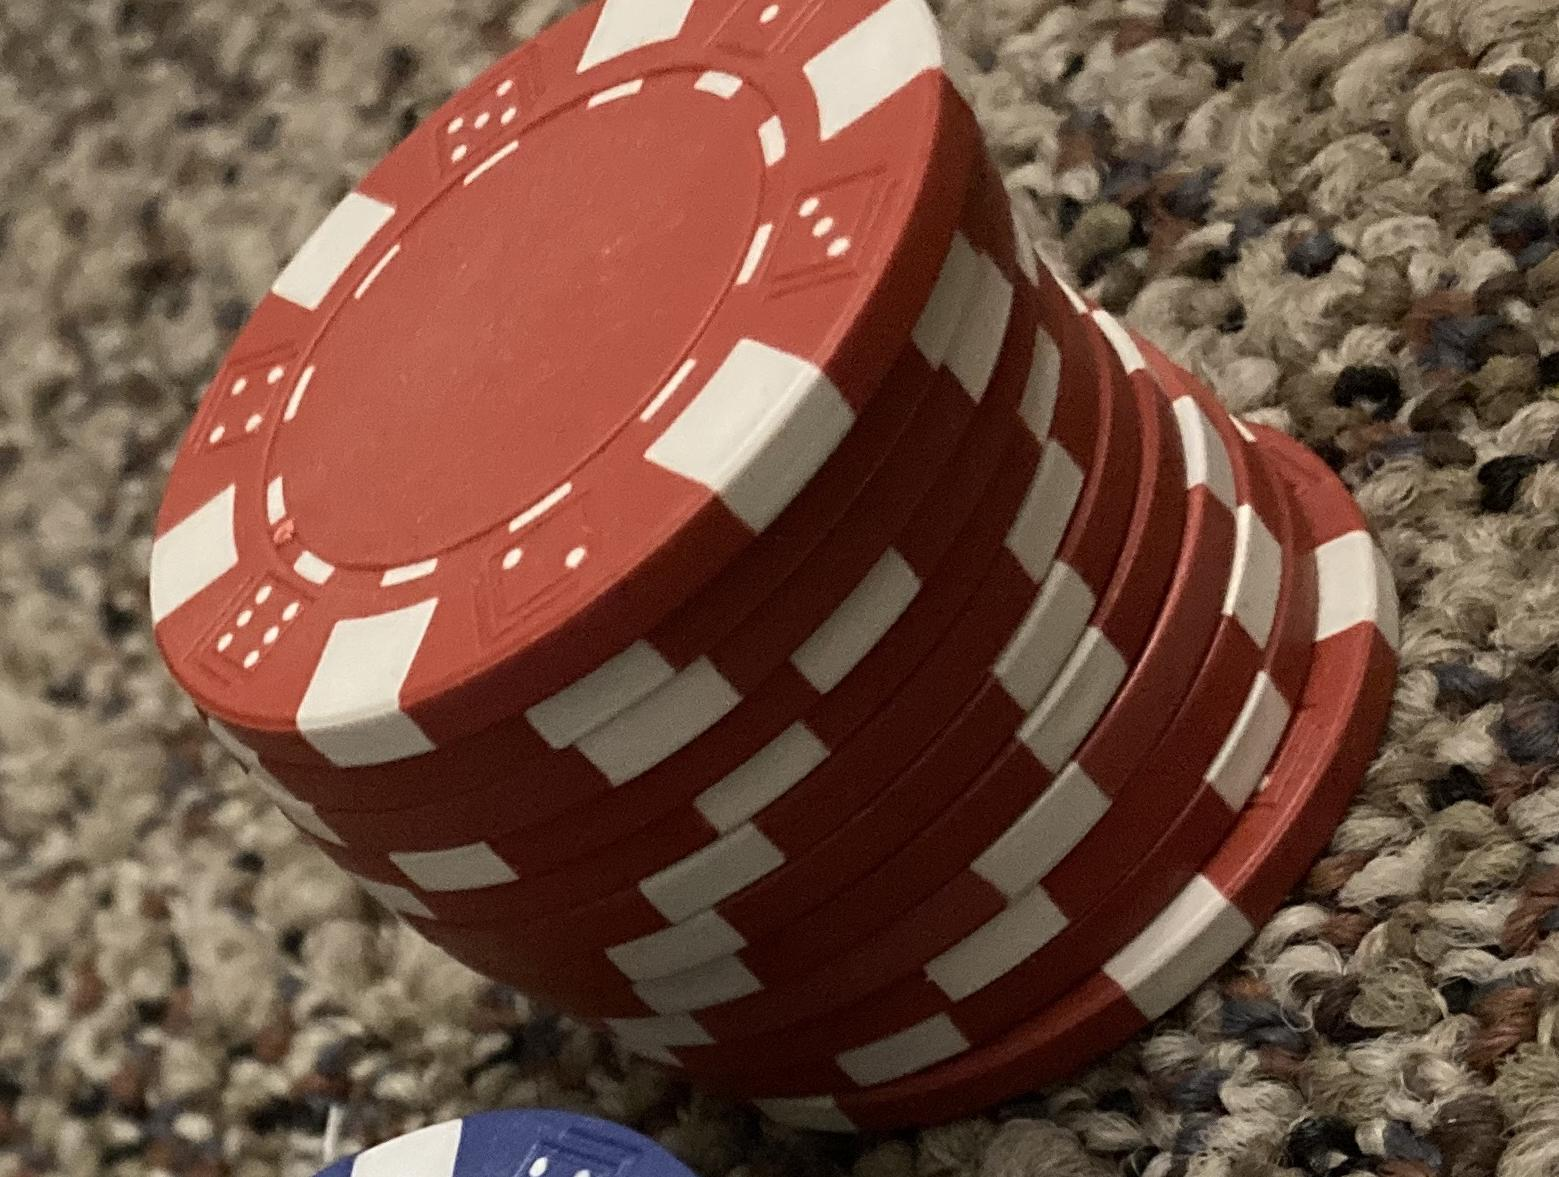Chip: (1, 1, 1559, 1177)
